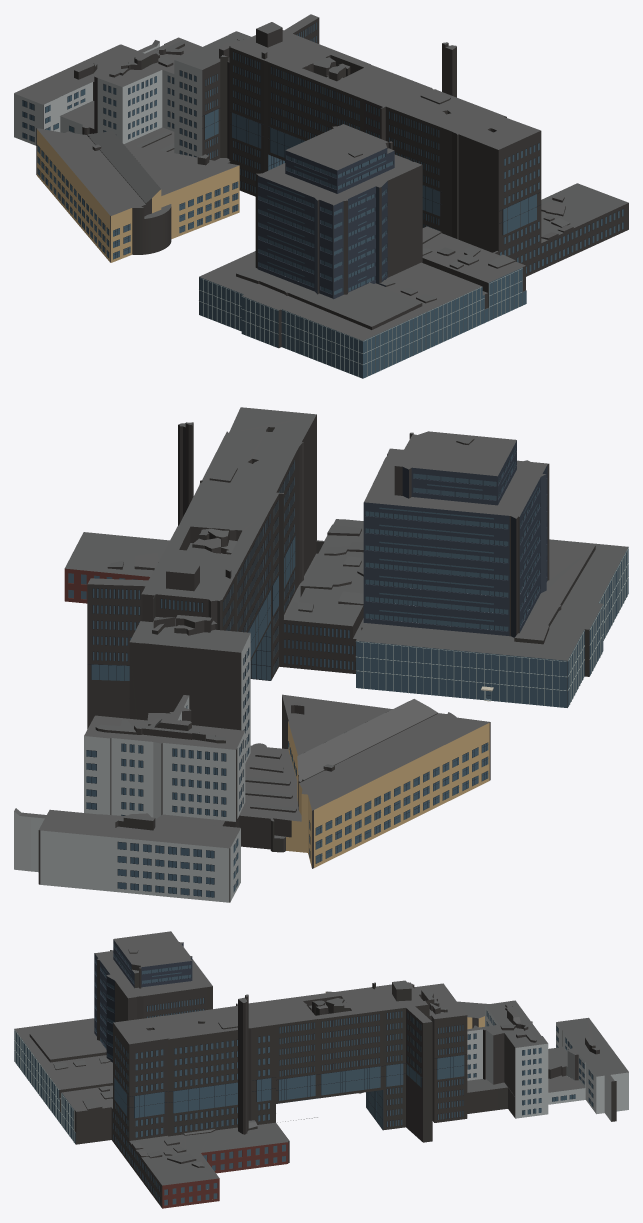
File: roeterseiland-rec-a.glb
The picture shows the model from 3 angles, top to bottom: view 1: azimuth 30°, elevation 25°; view 2: azimuth 150°, elevation 25°; view 3: azimuth 270°, elevation 25°; orthographic projection. The views are drawn at different scales.
Visible parts, largest first — view 1: roeterseiland-rec-a; view 2: roeterseiland-rec-a; view 3: roeterseiland-rec-a.
Part boxes in pixels (box(x1,y1,x2,y2)): roeterseiland-rec-a: box(14, 14, 628, 378); roeterseiland-rec-a: box(14, 407, 628, 902); roeterseiland-rec-a: box(14, 931, 628, 1208).
Bounding box in the file's own units: 143 × 59.25 × 210.
